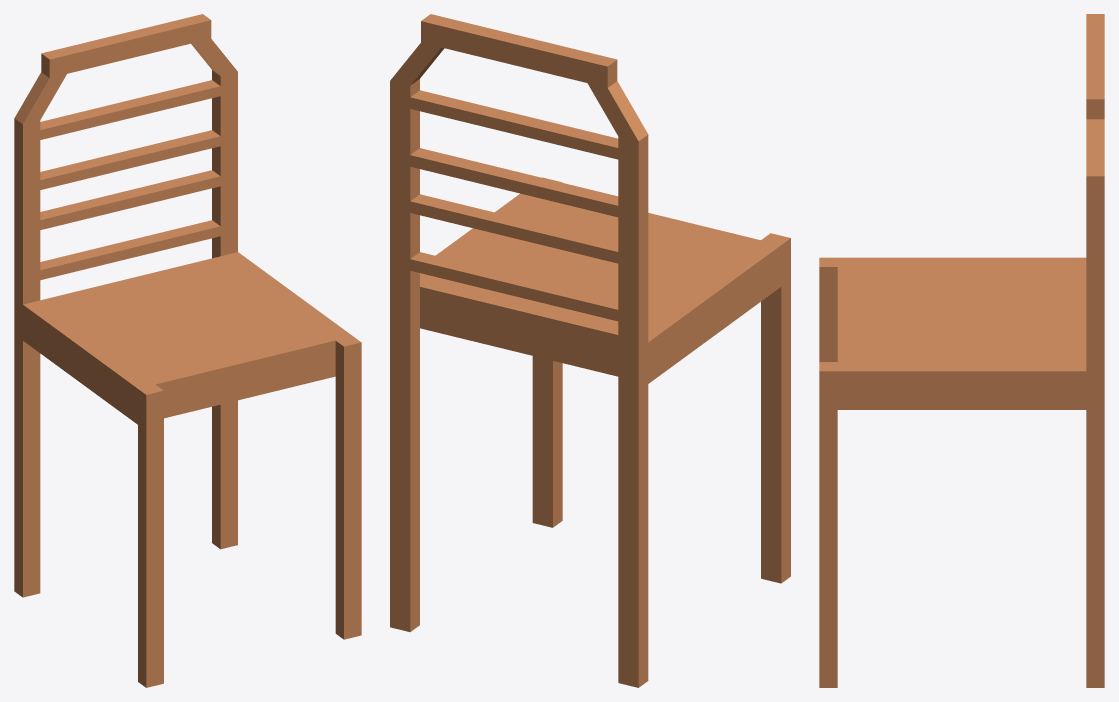
File: Silla.fbx
3 renders of one model, left to right at view 1: azimuth 30°, elevation 25°; view 2: azimuth 150°, elevation 25°; view 3: azimuth 270°, elevation 25°, orthographic. The views are drawn at different scales.
Visible parts, largest first — view 1: Silla(mapeado)(XDD); view 2: Silla(mapeado)(XDD); view 3: Silla(mapeado)(XDD).
Part boxes in pixels (x1,y1,x2,y2): Silla(mapeado)(XDD): (14,14,361,687); Silla(mapeado)(XDD): (390,14,790,687); Silla(mapeado)(XDD): (819,14,1104,687).
Size of the model in its own units: 262 by 618 by 278.
